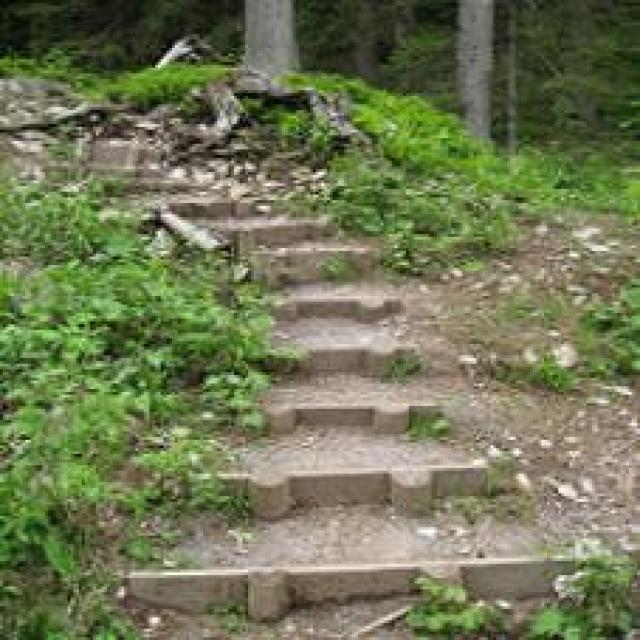upstair: (133, 286, 534, 579)
